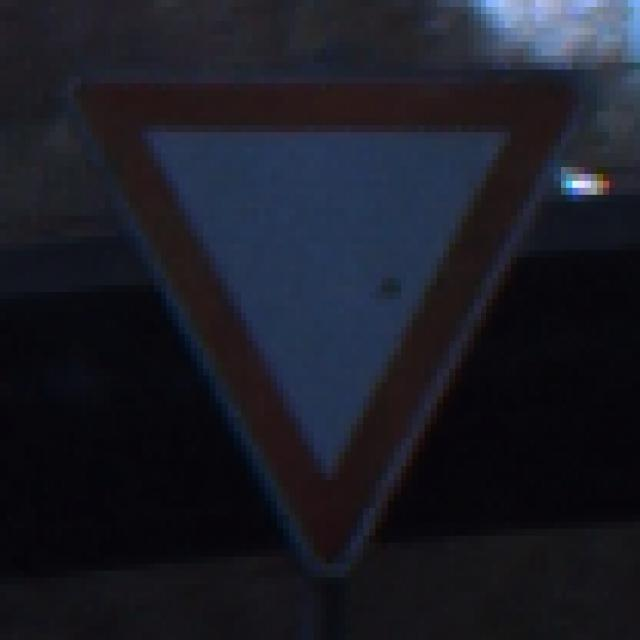Give Way: (63, 57, 586, 585)
